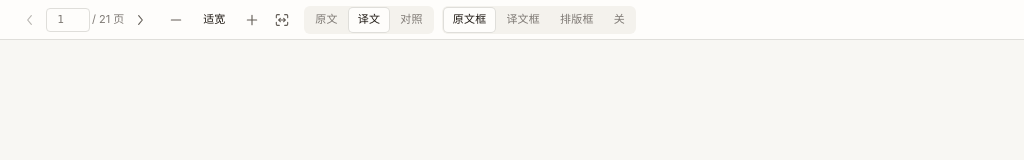
Test: PreviewToolbar › 页码输入：合法值提交、越界 clamp、非法值回退
This screenshot has width=1024, height=160.
Replace the text in the number field named "页码" with "5" at (68, 20), box [46,8,90,32]
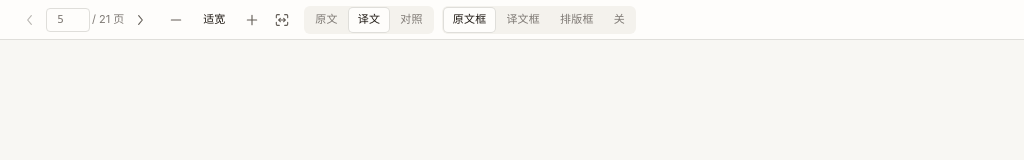
Press Enter in the number field named "页码", box [46,8,90,32]
Replace the text in the number field named "页码" with "99" at (68, 20), box [46,8,90,32]
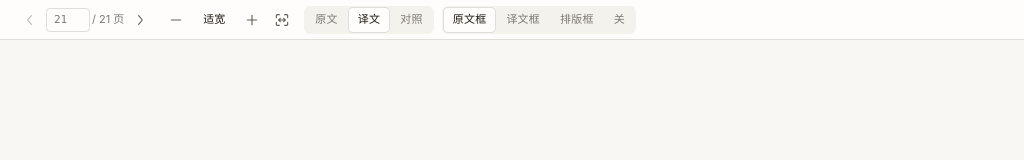
Clear the number field named "页码" at (68, 20), box [46,8,90,32]
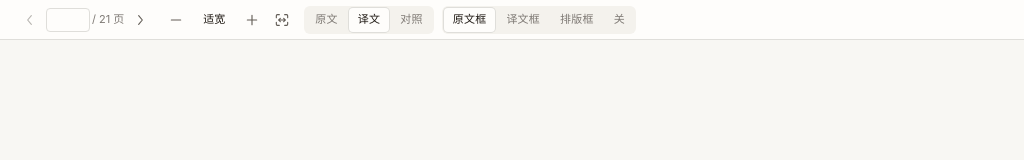
Leave the number field named "页码", box [46,8,90,32]
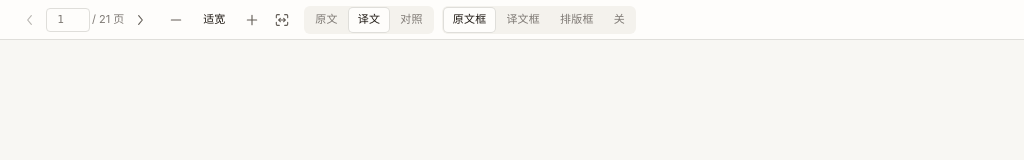
Expected: the text "/ 21 页" is shown, [92,12,124,27]
Expected: the number field named "页码" holds "1", [46,8,90,32]
